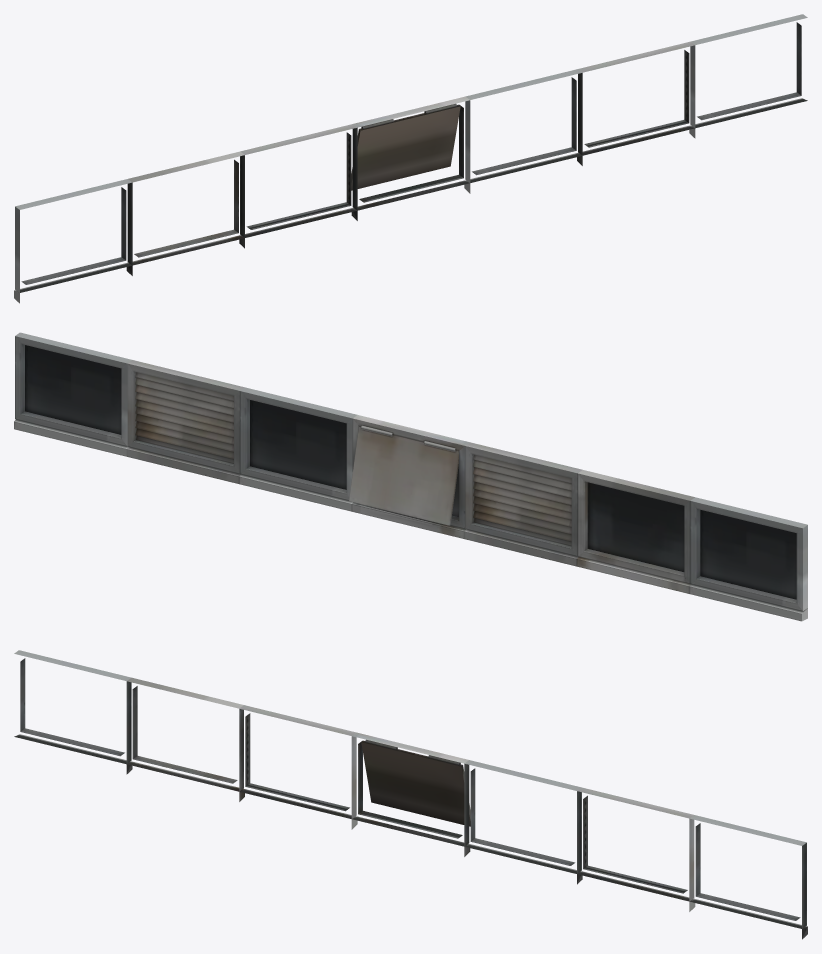
3 views of the same model, one above another, from view 1: azimuth 30°, elevation 25°; view 2: azimuth 150°, elevation 25°; view 3: azimuth 330°, elevation 25° (orthographic).
Visible parts, largest first — view 1: body0_model0_lod0_mesh0; view 2: body0_model0_lod0_mesh0; view 3: body0_model0_lod0_mesh0.
Boxes of the visible parts, <box> form: body0_model0_lod0_mesh0: <box>14,14,807,303</box>; body0_model0_lod0_mesh0: <box>14,332,807,621</box>; body0_model0_lod0_mesh0: <box>14,650,807,939</box>.
Size of the model in its own units: 448 by 50.98 by 14.71.
Materials: 1 (1 with a texture image).
